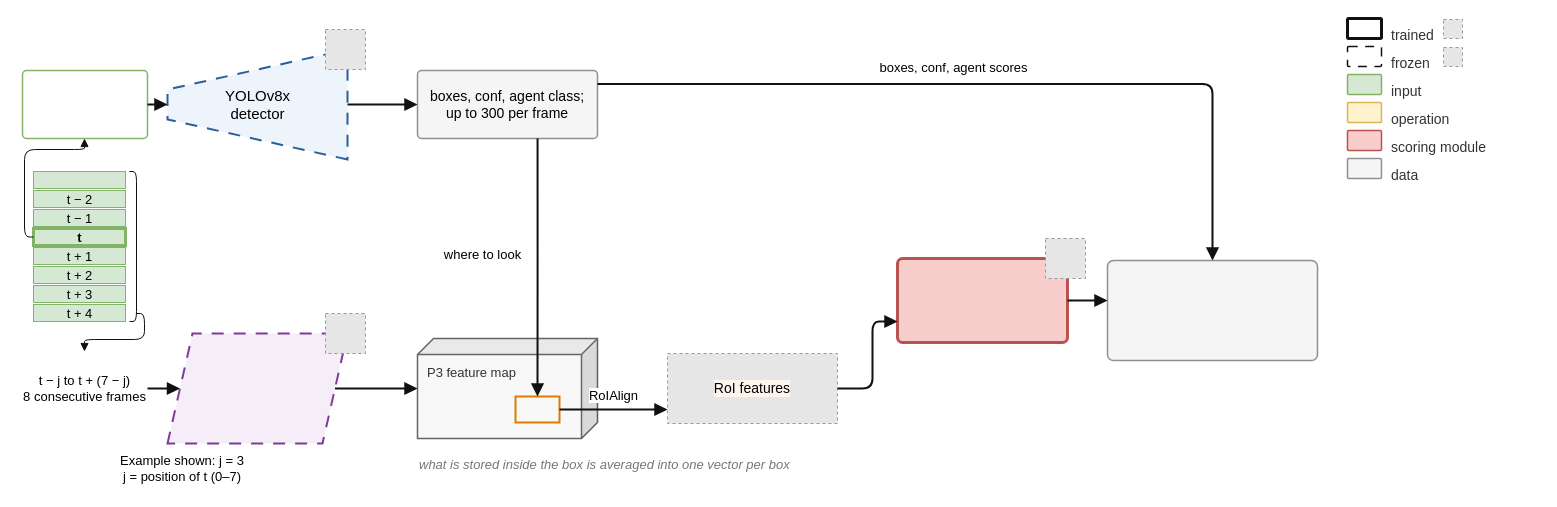
Image size: 1557x507. Some labels were removed from this diagram. Grey dashed boxes stand in for pictures. Each missing label, with the box of its shape:
frame t: (21, 69, 148, 139)
per-frame detections: boxes scored across 184 classes: (1106, 259, 1318, 361)
ResNet50-I3D backbone + FPN: (166, 332, 348, 444)
t − 3: (32, 170, 126, 188)
trained scoring head sigmoid x YOLO conf: (896, 256, 1068, 344)
